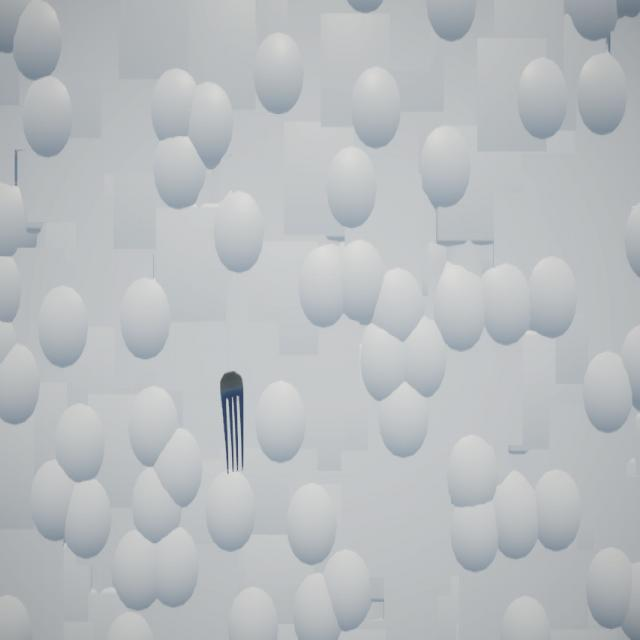top_folk: (221, 373, 245, 476)
